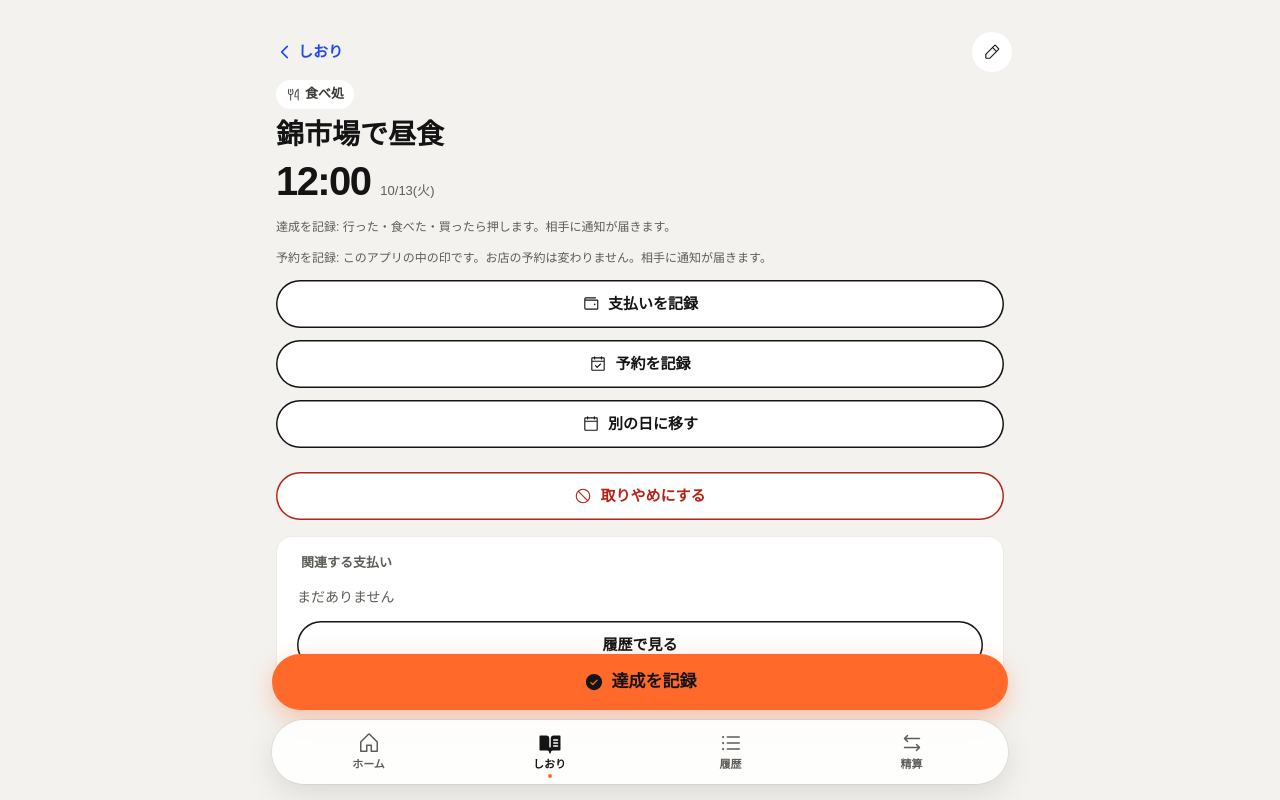
Scenario: 予定の詳細の達成・予約のボタンと関連する支払い（RW-11・RW-20） › 押すと確認が開き、「やめる」なら何も送らない（#252）
The image size is (1280, 800).
Click the button "達成を記録" at (640, 682), box left=272, top=654, right=1008, bottom=710
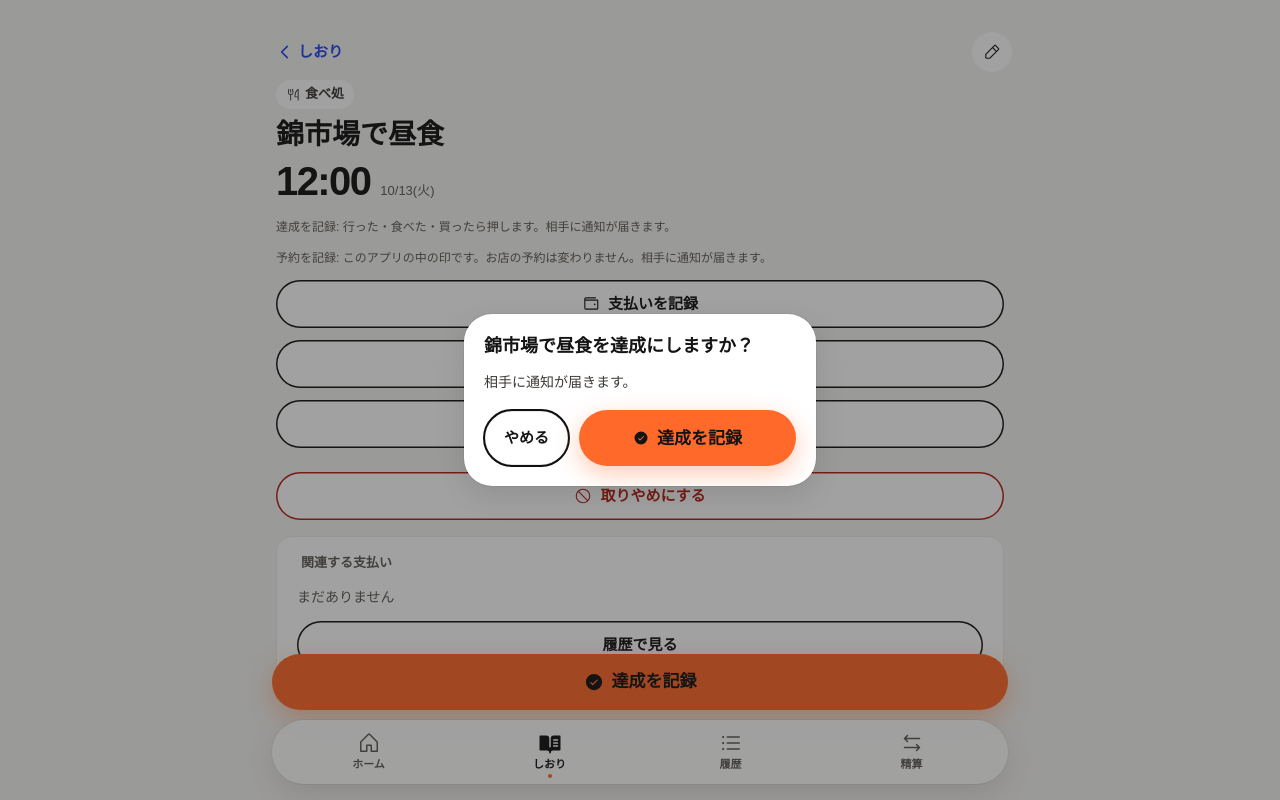
Result: the text "相手に通知が届きます。" is shown at left=484, top=374, right=637, bottom=390
Click the button "やめる" at (526, 438), box left=484, top=410, right=569, bottom=466
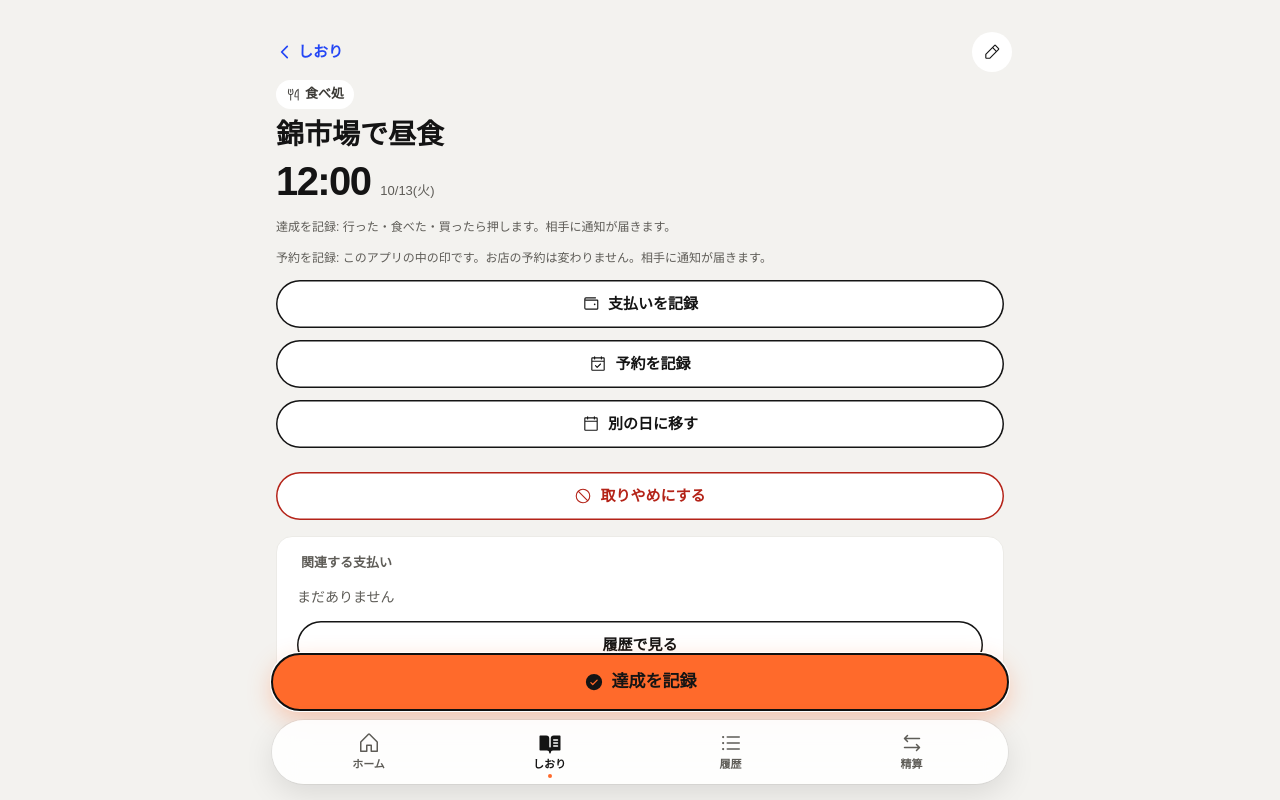
Result: the dialog is gone
